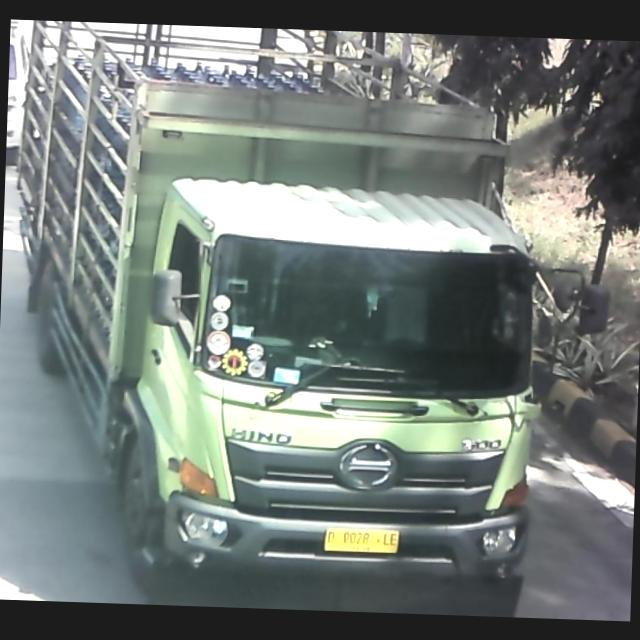plate: (324, 526, 403, 557)
